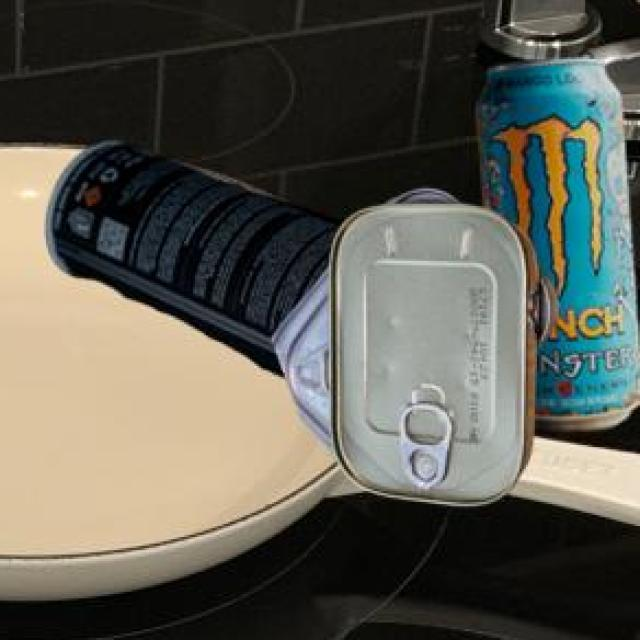logam: (268, 185, 556, 503), (43, 139, 339, 374), (475, 56, 639, 428)
